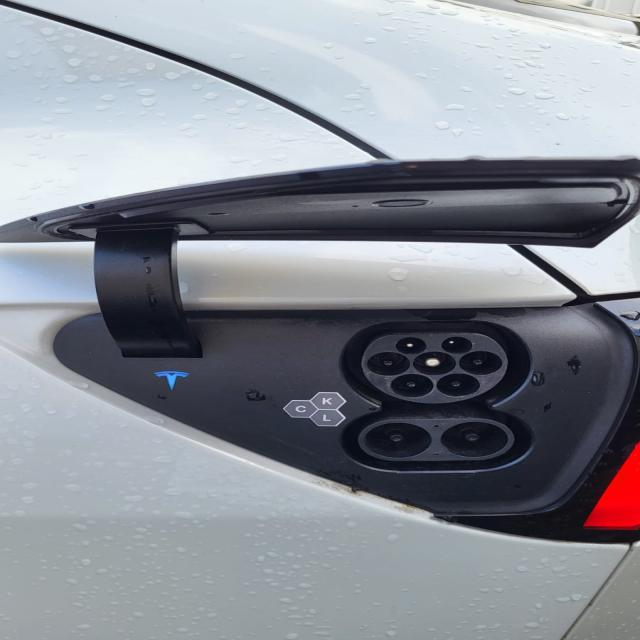inlet: (361, 333, 508, 404)
inlet-above-left: (396, 337, 426, 354)
inlet-above-right: (442, 337, 473, 354)
inlet-below-left: (391, 374, 433, 397)
inlet-below-right: (437, 373, 480, 397)
inlet-circle: (413, 351, 456, 376)
inlet-circle-left: (368, 352, 411, 376)
inlet-circle-right: (460, 351, 503, 375)
inlet-minus: (441, 422, 508, 457)
inlet-plus: (365, 423, 432, 458)
